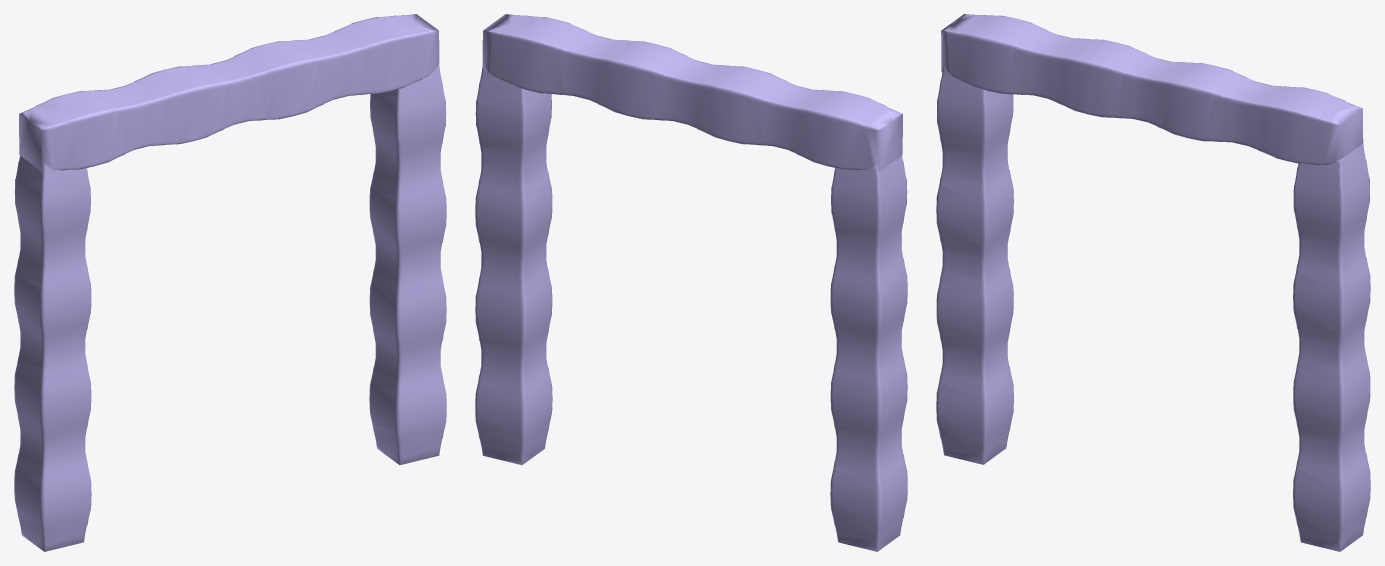
Rendered from lila.glb.
3 renders of one model, left to right at view 1: azimuth 30°, elevation 25°; view 2: azimuth 150°, elevation 25°; view 3: azimuth 330°, elevation 25°, orthographic.
Visible parts, largest first — view 1: Cube.002; view 2: Cube.002; view 3: Cube.002.
Boxes of the visible parts, left/top/right/bottom form: Cube.002: left=14, top=14, right=446, bottom=551; Cube.002: left=475, top=14, right=907, bottom=551; Cube.002: left=936, top=14, right=1370, bottom=551.
Size of the model in its own units: 4.56 by 4.61 by 0.57.
